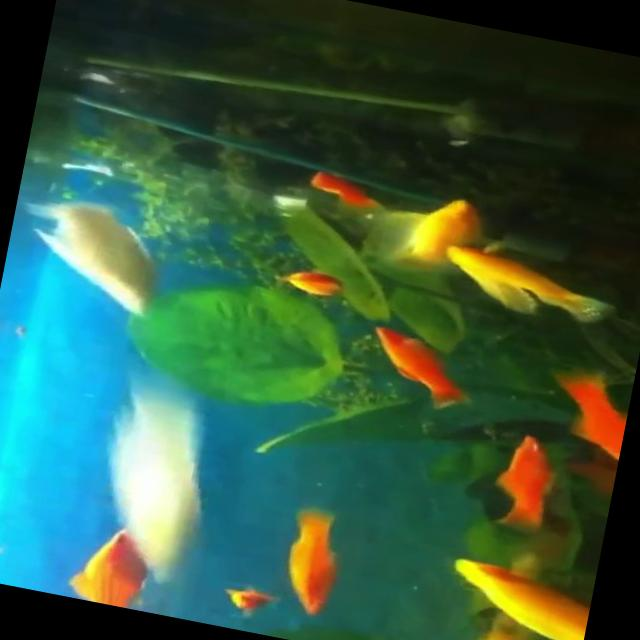PlatyFish: (350, 317, 489, 418), (266, 496, 356, 628), (480, 420, 565, 544)
